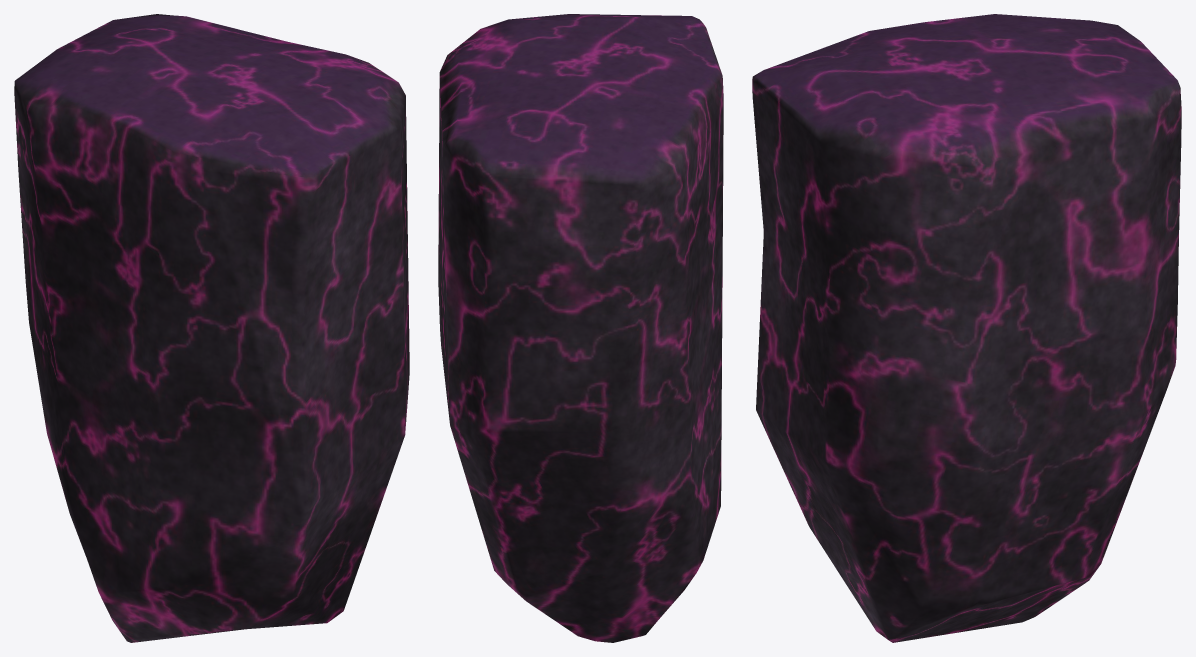
Rendered from caos_stl_cliffrock_01d_chaos_v36.glb.
3 views of the same model, side by side, from view 1: azimuth 30°, elevation 25°; view 2: azimuth 150°, elevation 25°; view 3: azimuth 270°, elevation 25° (orthographic). The views are drawn at different scales.
Visible parts, largest first — view 1: caos_stl_cliffrock_01d; view 2: caos_stl_cliffrock_01d; view 3: caos_stl_cliffrock_01d.
Part boxes in pixels (left/top/right/bottom): caos_stl_cliffrock_01d: left=14, top=14, right=409, bottom=642; caos_stl_cliffrock_01d: left=438, top=14, right=723, bottom=642; caos_stl_cliffrock_01d: left=752, top=14, right=1181, bottom=642.
Bounding box in the file's own units: 5.71 × 10.51 × 7.11.
Materials: 1 (1 with a texture image).
